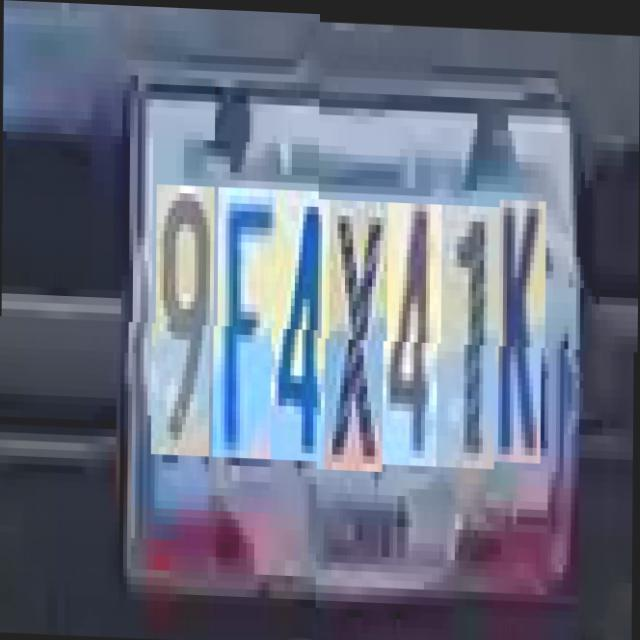1: (440, 200, 500, 464)
4: (274, 194, 330, 466), (387, 198, 442, 462)
9: (155, 190, 215, 462)
F: (216, 192, 276, 464)
K: (498, 195, 546, 459)
X: (328, 196, 388, 468)
